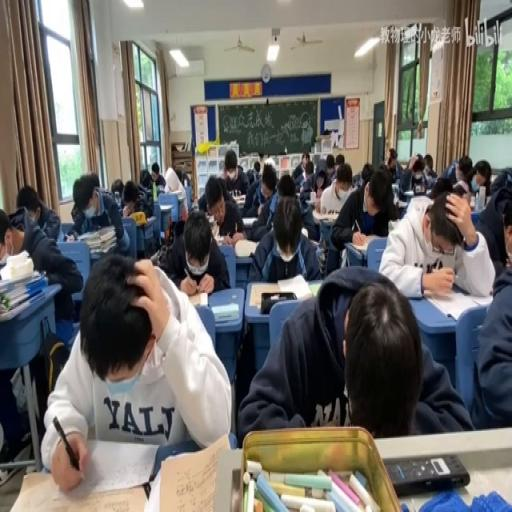calculator: (6, 450, 153, 510), (422, 286, 488, 321), (0, 291, 38, 321), (277, 272, 313, 302), (0, 266, 42, 291), (248, 282, 282, 308), (210, 300, 238, 322), (350, 232, 380, 250), (234, 238, 257, 256), (187, 288, 209, 306), (312, 208, 338, 222), (214, 233, 234, 246), (137, 184, 152, 199), (308, 282, 320, 297), (240, 214, 257, 224), (62, 232, 77, 242), (158, 203, 173, 212), (396, 196, 407, 208), (206, 213, 216, 226), (232, 193, 246, 202), (155, 184, 165, 194), (308, 238, 318, 248), (144, 216, 155, 225), (300, 226, 307, 239), (403, 189, 415, 196)
paper: (42, 253, 227, 494), (236, 266, 466, 442), (380, 189, 494, 299), (1, 194, 83, 332), (325, 165, 398, 273), (469, 256, 512, 428), (245, 194, 320, 284), (160, 208, 229, 294), (70, 171, 128, 256), (434, 155, 482, 193), (398, 152, 432, 199), (219, 149, 248, 202), (119, 179, 144, 218), (298, 158, 320, 200), (488, 168, 511, 195), (146, 160, 166, 190), (261, 162, 277, 196), (276, 174, 294, 196), (110, 176, 124, 202), (360, 160, 374, 184), (324, 150, 334, 180), (174, 165, 188, 186), (476, 172, 490, 191), (334, 152, 344, 174), (71, 203, 81, 225), (386, 148, 396, 169), (452, 182, 468, 195), (352, 170, 363, 188), (314, 160, 326, 176), (139, 170, 148, 188), (218, 164, 228, 180), (424, 155, 433, 171), (245, 168, 254, 183), (408, 158, 417, 169), (253, 161, 259, 175), (302, 156, 309, 168)
person: (384, 452, 470, 494)
